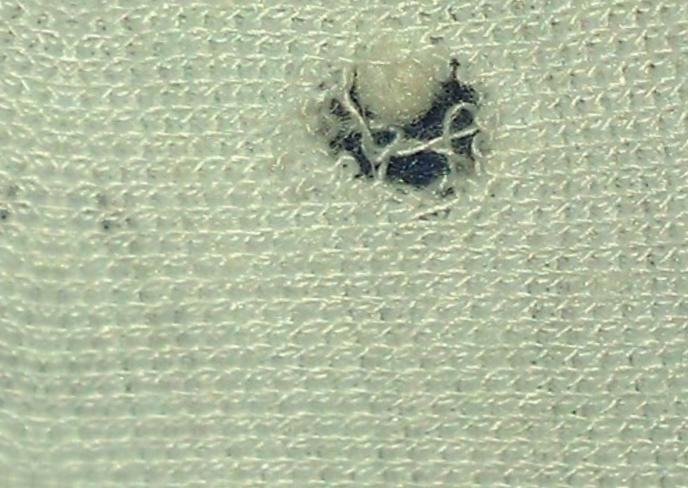hole: (339, 32, 471, 135)
